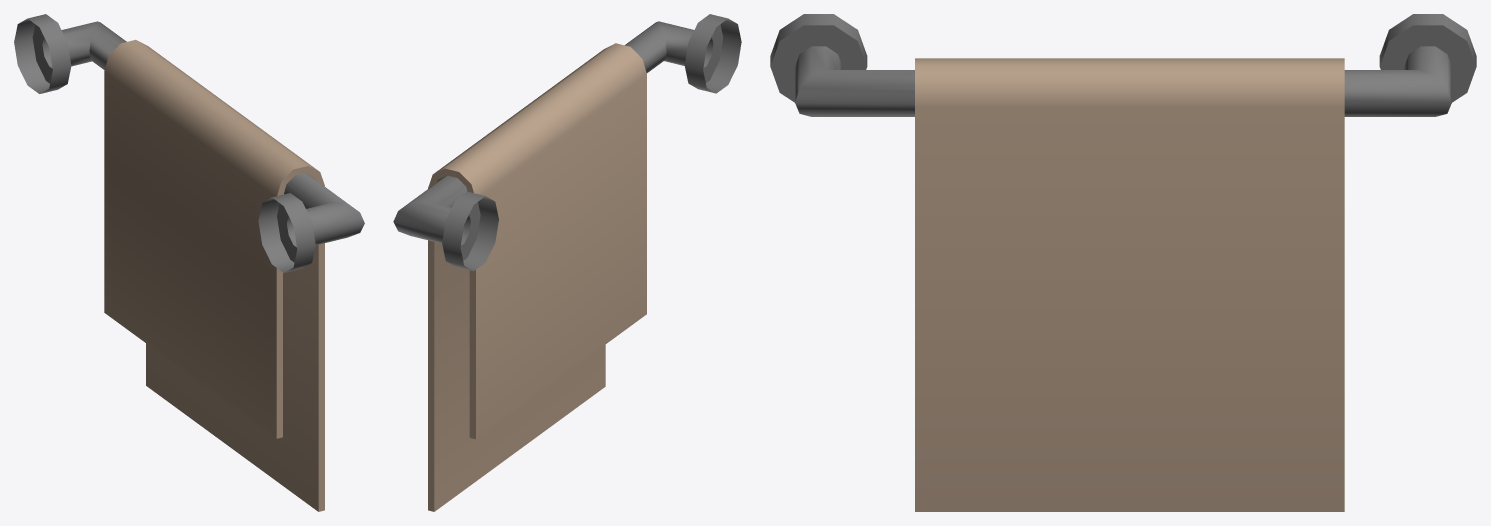
Rendered from S_ToiletCloth.fbx.
3 views of the same model, side by side, from view 1: azimuth 30°, elevation 25°; view 2: azimuth 150°, elevation 25°; view 3: azimuth 270°, elevation 25° (orthographic). The views are drawn at different scales.
Parts seen in each view (by area): view 1: S_ToiletCloth; view 2: S_ToiletCloth; view 3: S_ToiletCloth.
Part boxes in pixels (left/top/right/bottom): S_ToiletCloth: left=14, top=14, right=364, bottom=511; S_ToiletCloth: left=393, top=14, right=741, bottom=511; S_ToiletCloth: left=770, top=14, right=1476, bottom=511.
Bounding box in the file's own units: 13.21 × 52.72 × 75.67.
